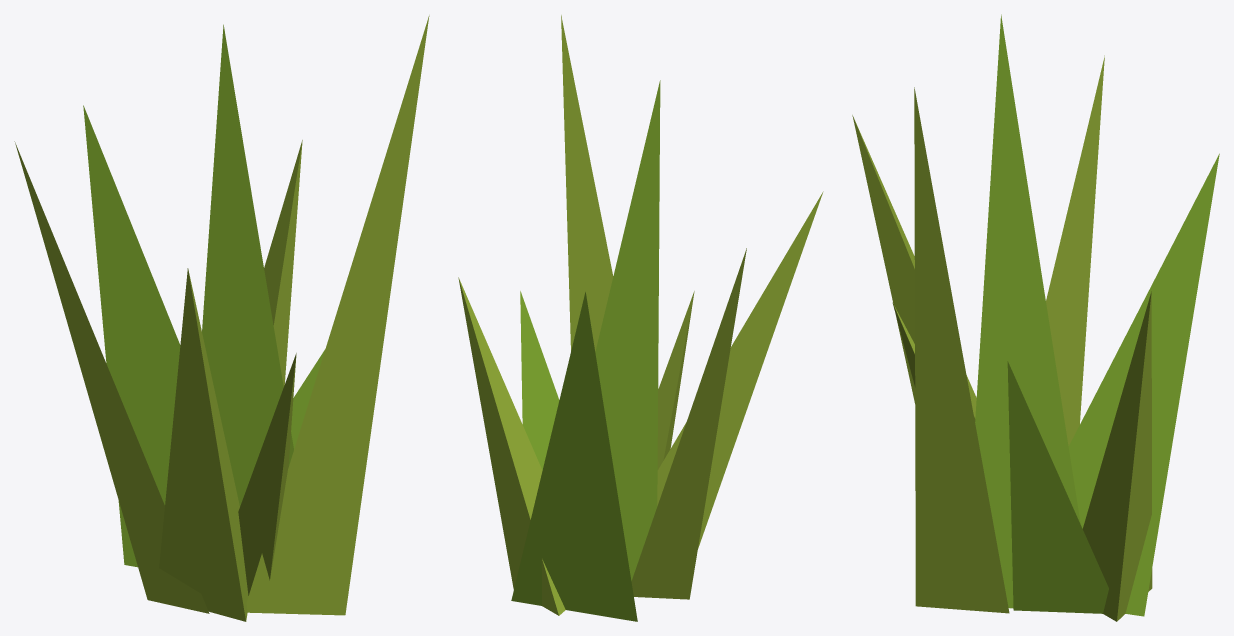
File: GrassB.fbx
The picture shows the model from 3 angles, left to right: view 1: azimuth 30°, elevation 25°; view 2: azimuth 150°, elevation 25°; view 3: azimuth 270°, elevation 25°; orthographic projection. The views are drawn at different scales.
Parts seen in each view (by area): view 1: Cone.008; view 2: Cone.008; view 3: Cone.008.
Part boxes in pixels (x1,y1,x2,y2): Cone.008: (14, 15, 429, 621); Cone.008: (458, 15, 823, 621); Cone.008: (852, 14, 1219, 621).
Size of the model in its own units: 33.29 by 58.55 by 34.87.
